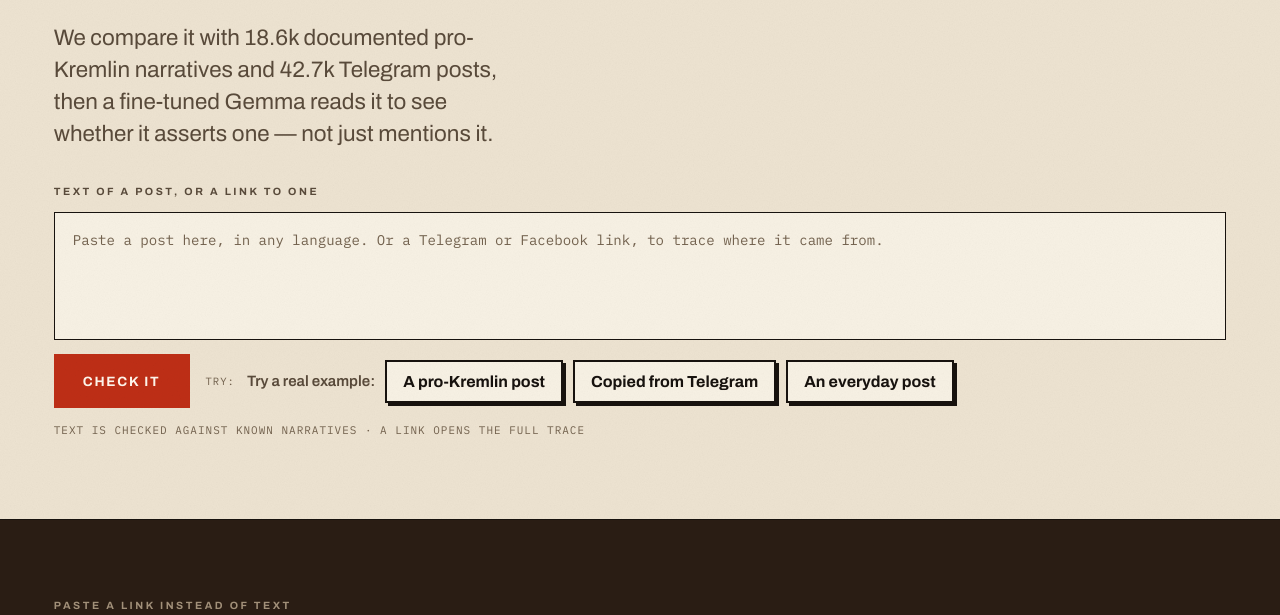
Test case: the start page's text box runs the narrative check › clean (demo): says no known narrative was found
(page scrolled)
Type "Lovely autumn day in Vilnius. The market at Halės turgus had the first cranberries of the season, and the queue for kibinai was worth it." into the text box labelled "Text of a post, or a link to one" at (640, 276), box [54, 212, 1226, 340]
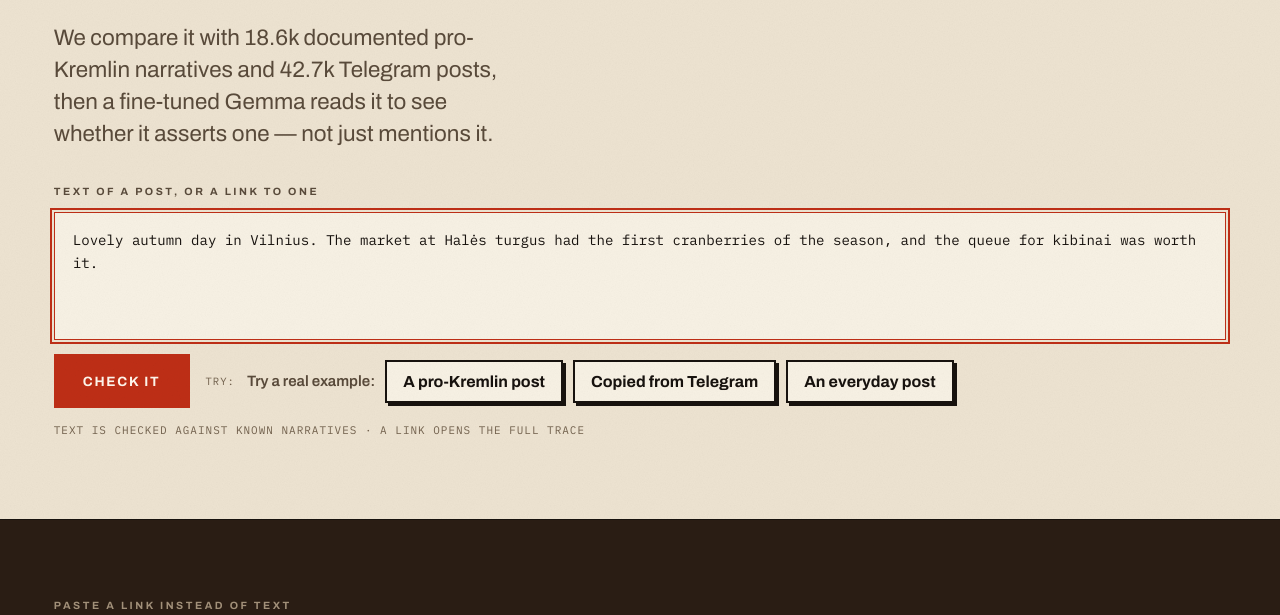
Click the button "Check it" at (122, 381), box [54, 354, 190, 408]
(page scrolled)
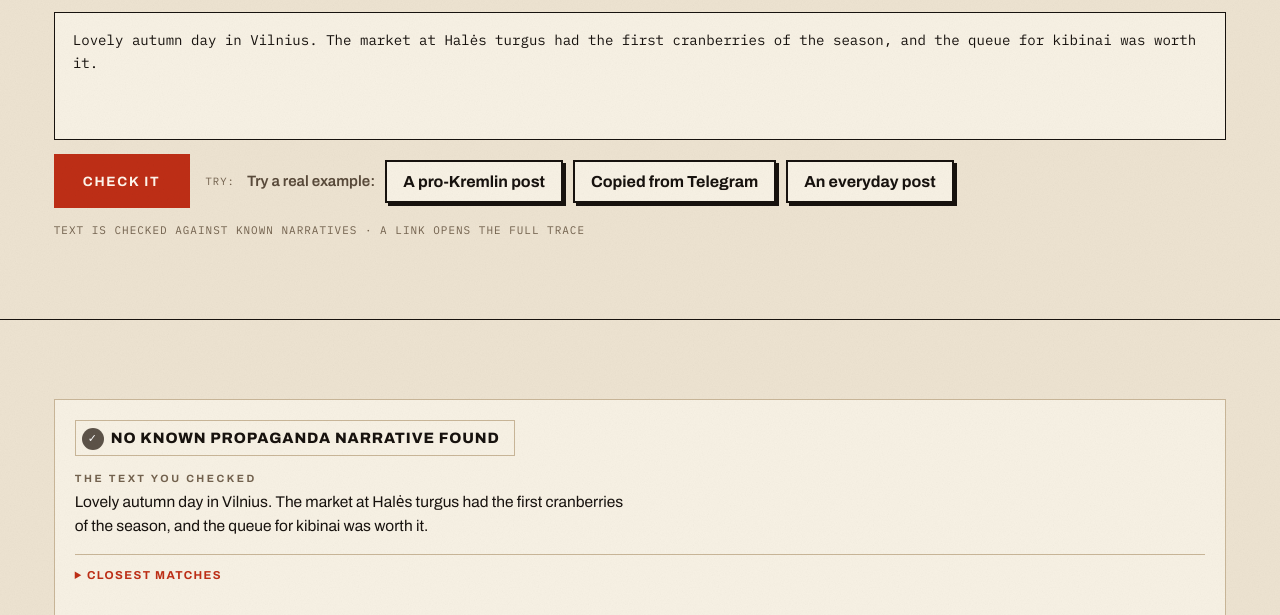
Check: the text "No known propaganda narrative found" is shown, box [111, 430, 500, 446]
